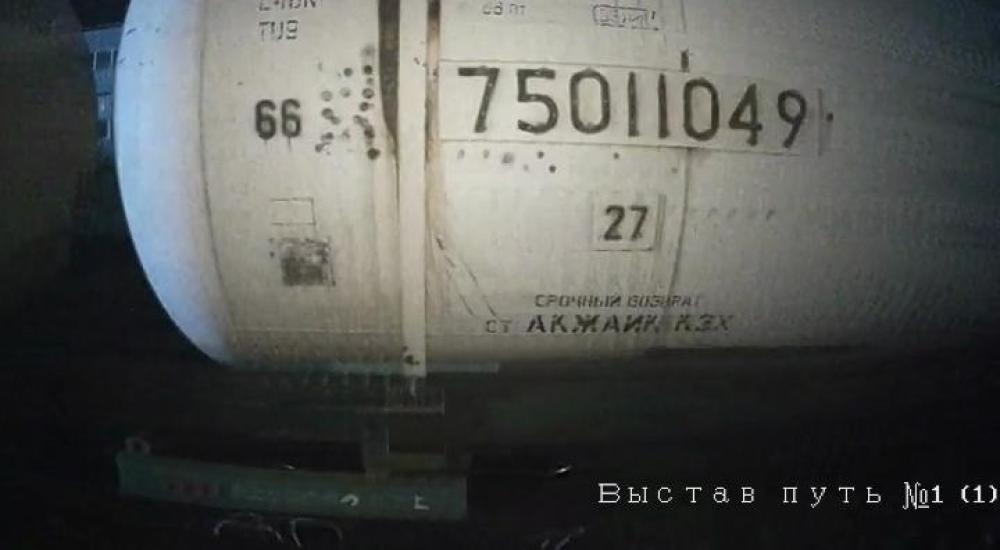Wagon-number: (446, 61, 812, 155)
